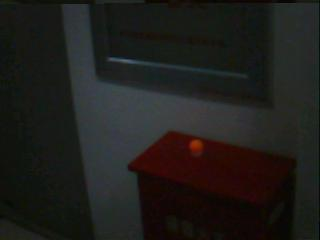oball: (189, 139, 203, 153)
